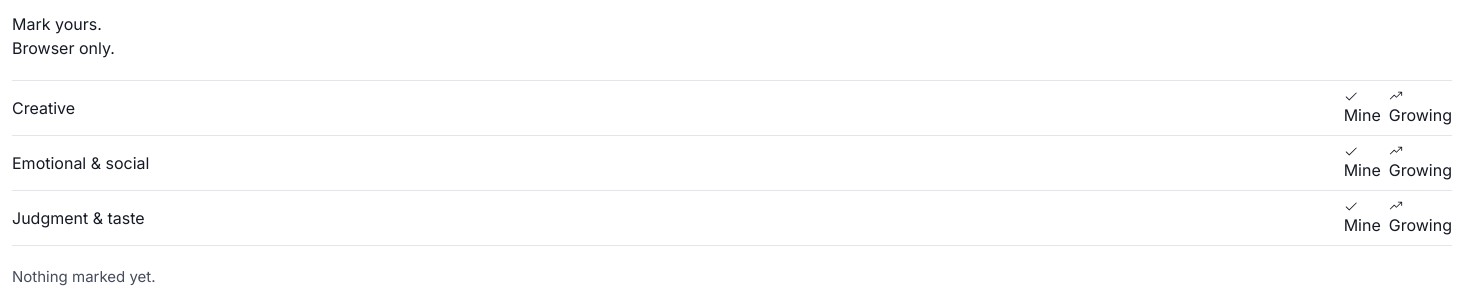
IntelligencePicker › tells the visitor when they have two to lead with and one to grow
Check: the text "Nothing marked yet." is shown, box [12,267,156,286]
Click the button with aria-label "Mine: Creative" at (1362, 108), box [1344,89,1381,127]
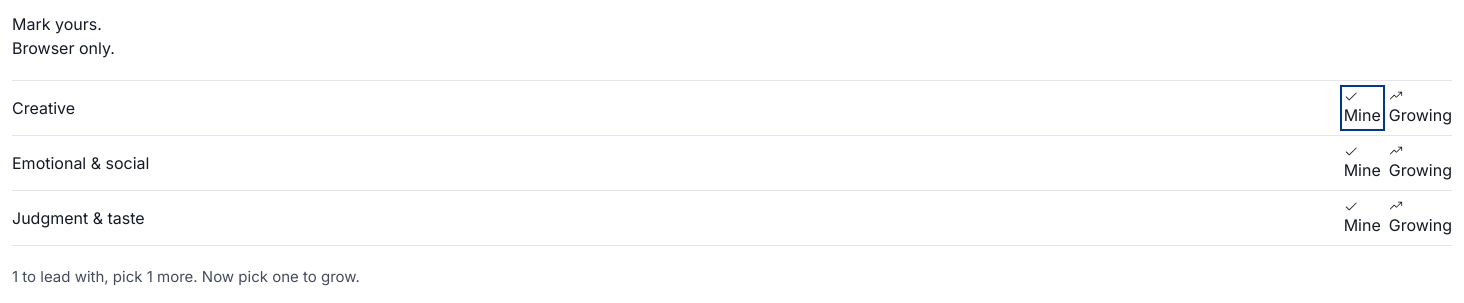
Click the button with aria-label "Mine: Emotional & social" at (1362, 163), box [1344,144,1381,182]
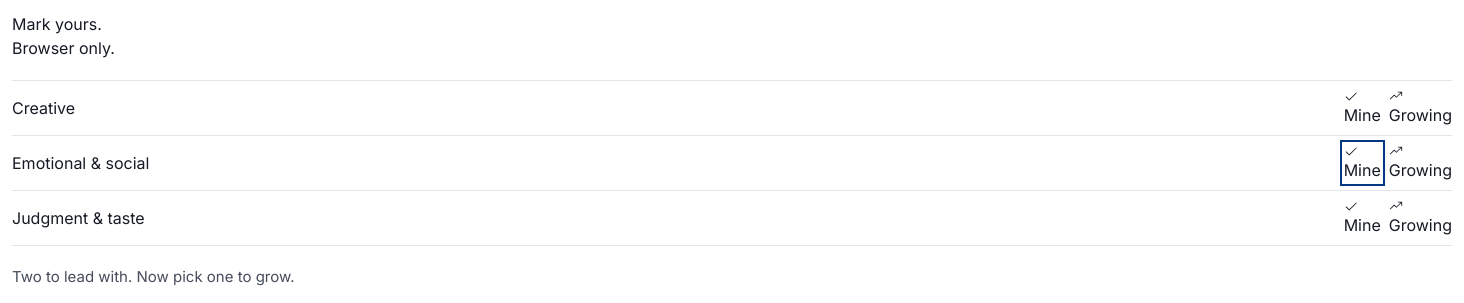
Click the button with aria-label "Growing: Judgment & taste" at (1420, 218), box [1389,199,1452,237]
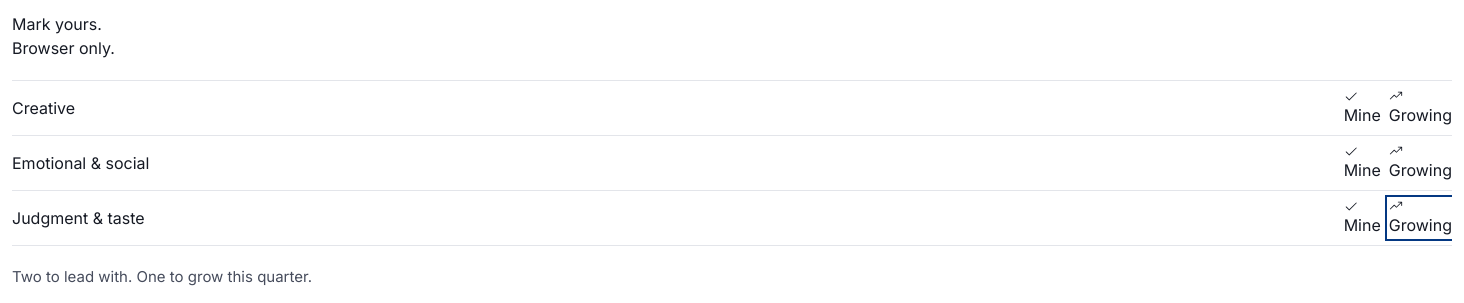
Check: the message reads "Two to lead with. One to grow this quarter.", box [12,267,312,286]
